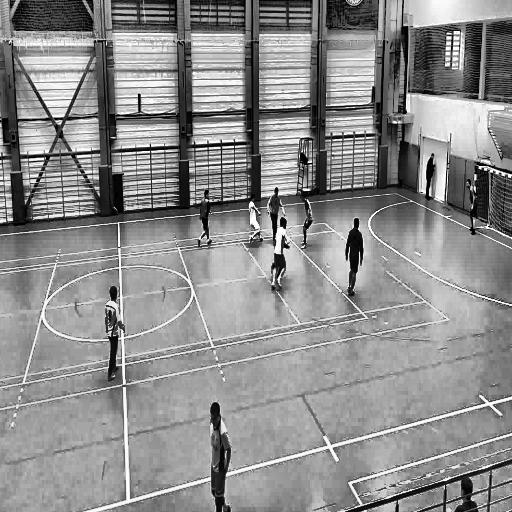player: (208, 399, 232, 512), (102, 280, 126, 382), (344, 216, 364, 298), (267, 186, 286, 245), (196, 188, 213, 251), (272, 218, 286, 294), (464, 176, 480, 238), (247, 192, 264, 246), (424, 151, 438, 203), (301, 192, 313, 252)
